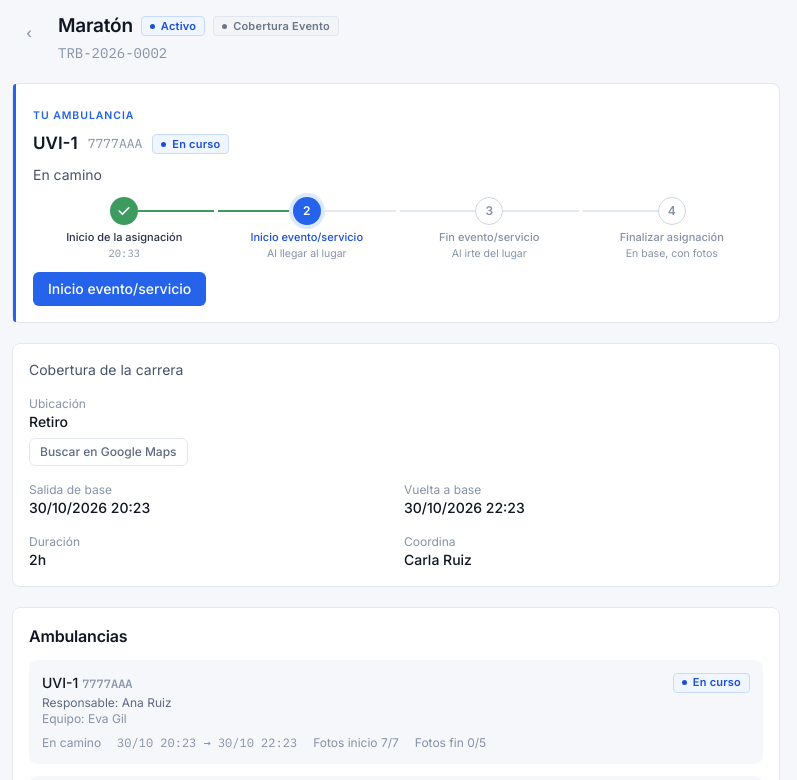
TrabajoDetail › abierta sin pantalla anterior (un aviso push), «‹» va a la portada
This screenshot has width=797, height=780.
Check: the element with test id "tu-ambulancia" is shown, box [12,82,780,323]
Click the button named "Volver" at (29, 33), box [12,16,46,50]
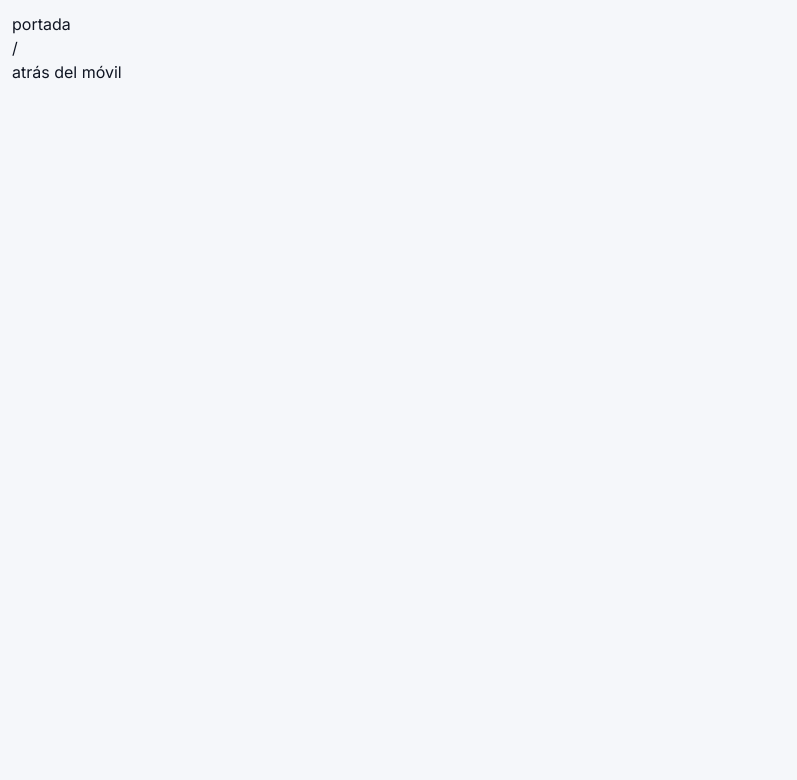
Check: the text "portada" is shown, box [12,14,71,34]
